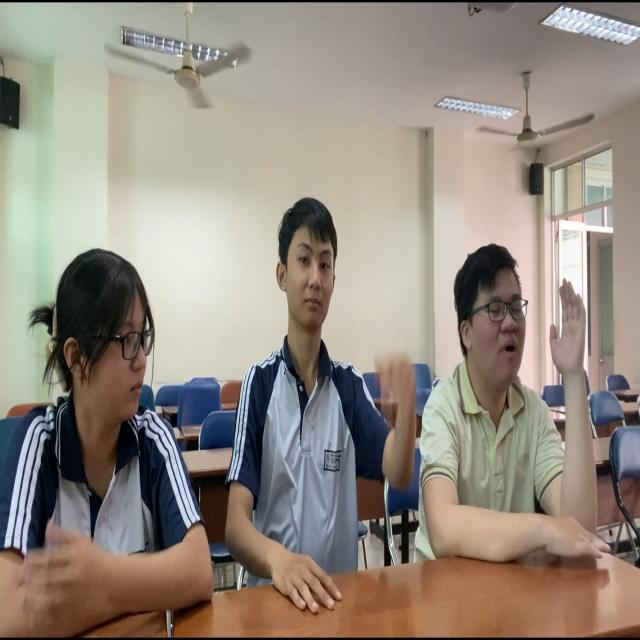raise_hand: (419, 238, 618, 574)
